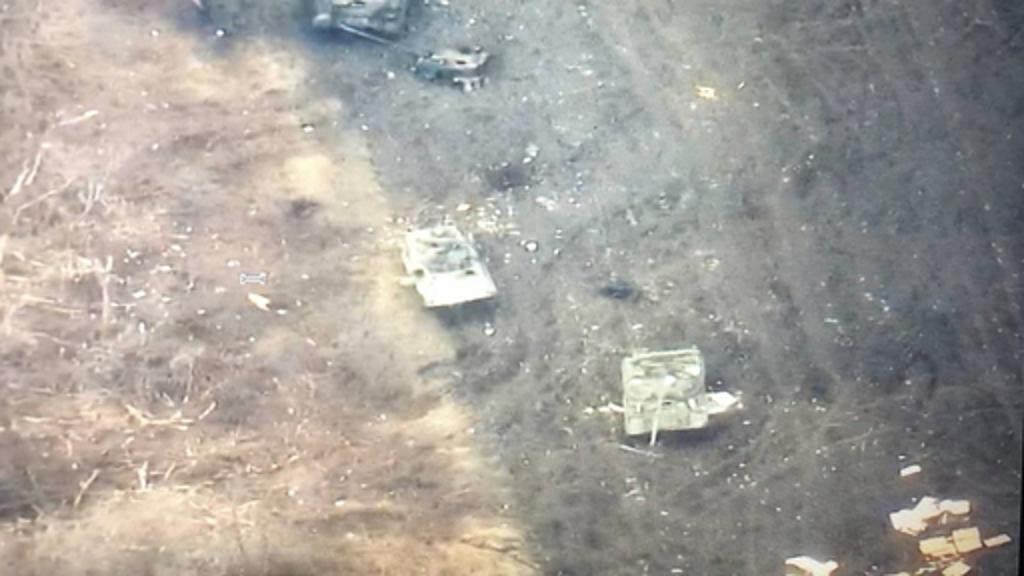APC-IFV: (380, 210, 498, 314)
TANK: (612, 338, 708, 454)
